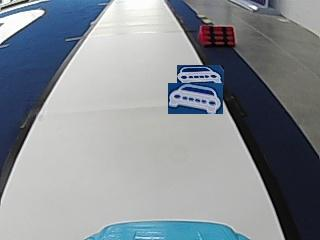bomb: (196, 24, 236, 45)
